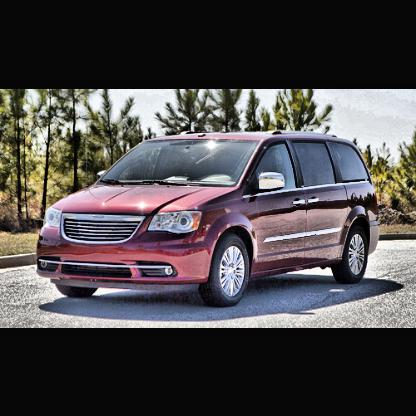Chrysler Town and Country Minivan 2012: (40, 131, 381, 305)
